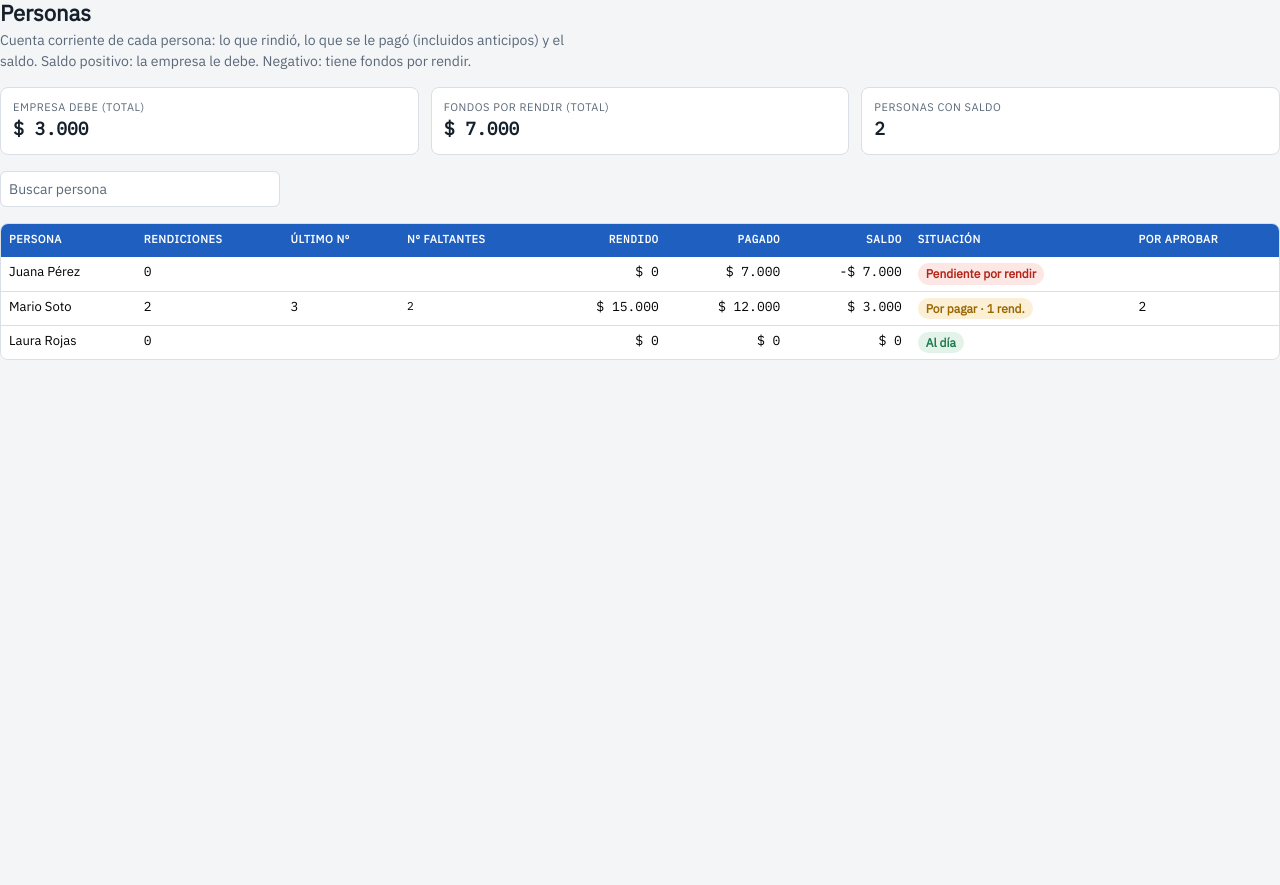
PersonasView › eliminar un pago manual pide confirmación
Click the row that starts with "Mario Soto" at (640,308), box [1,291,1279,326]
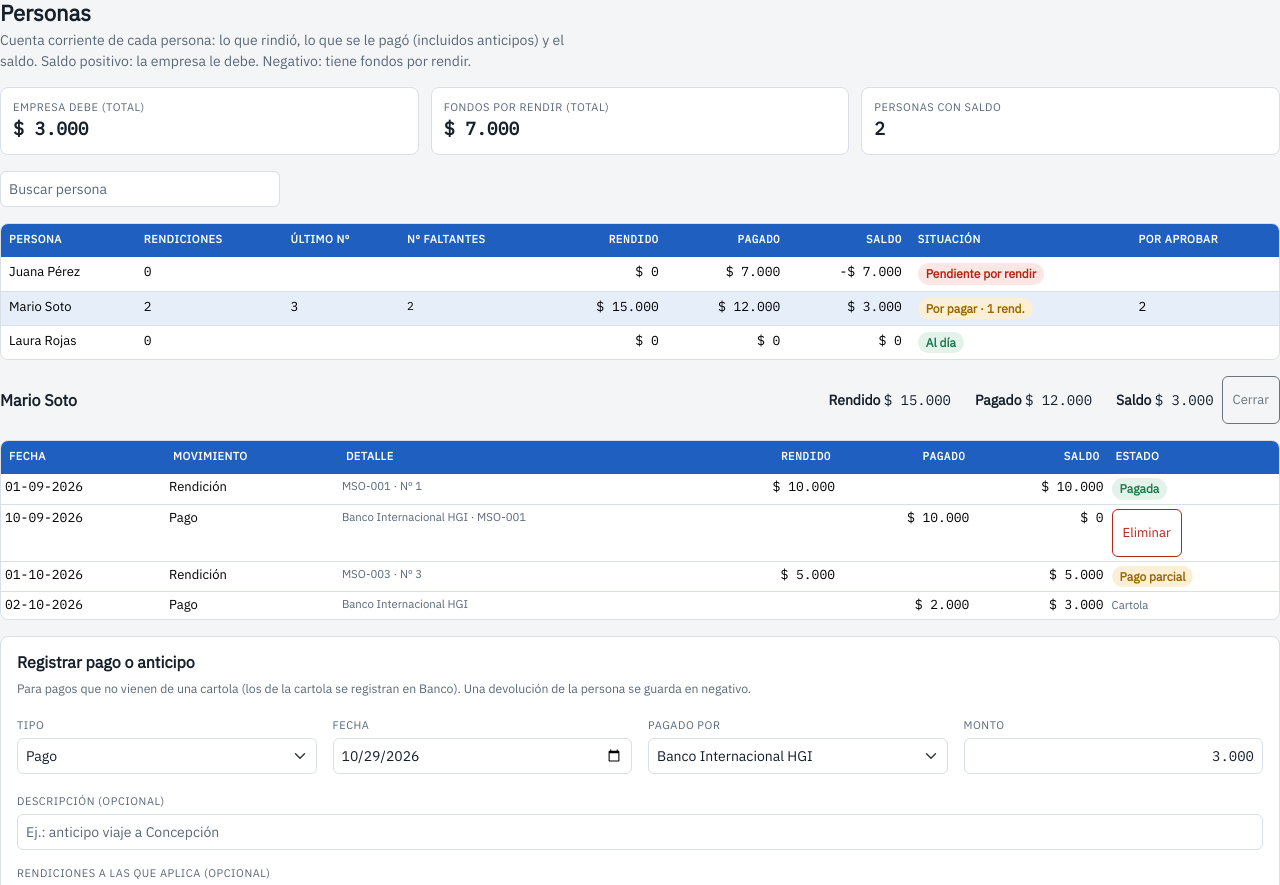
Click the button "Eliminar" at (1147,533), box [1112,509,1182,557]
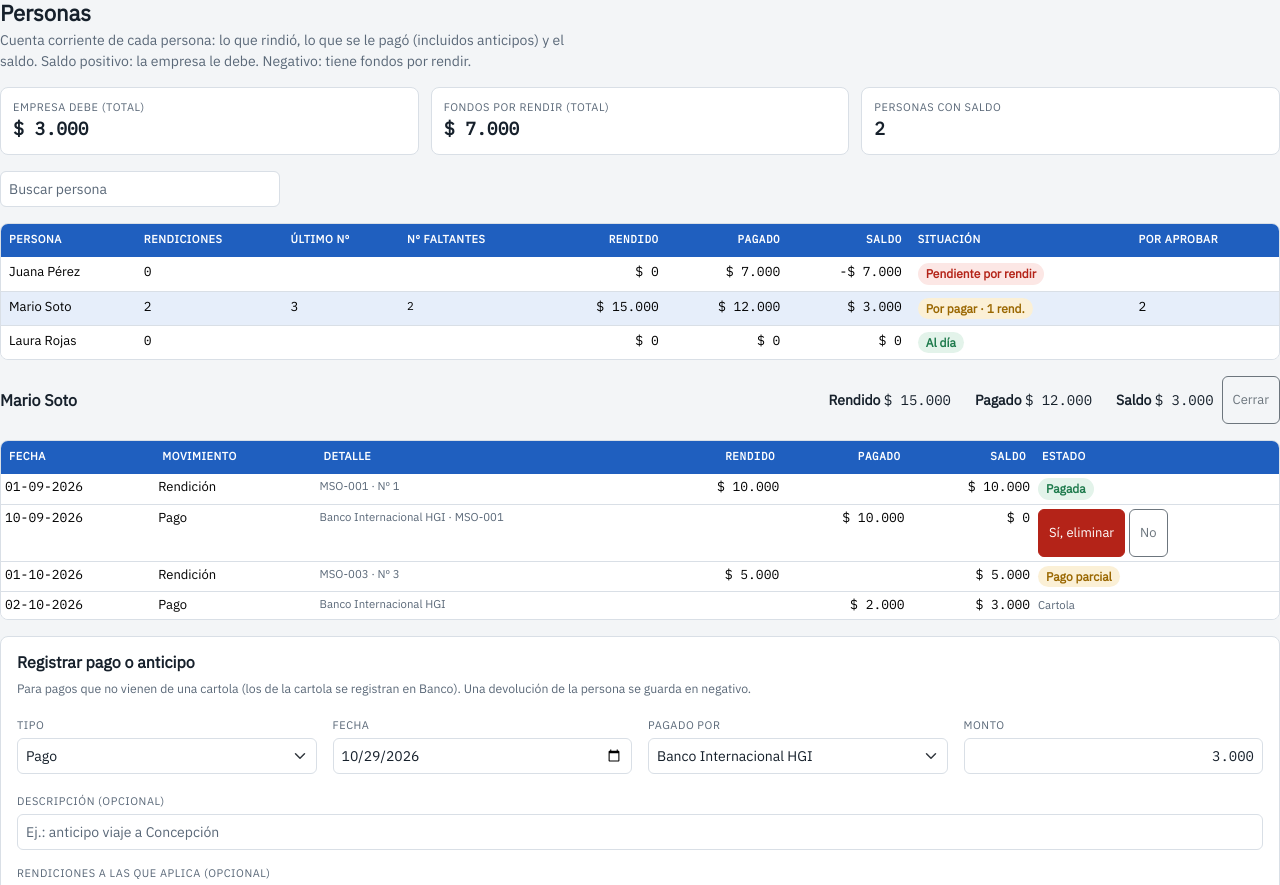
Click the button "Sí, eliminar" at (1082,533), box [1038,509,1125,557]
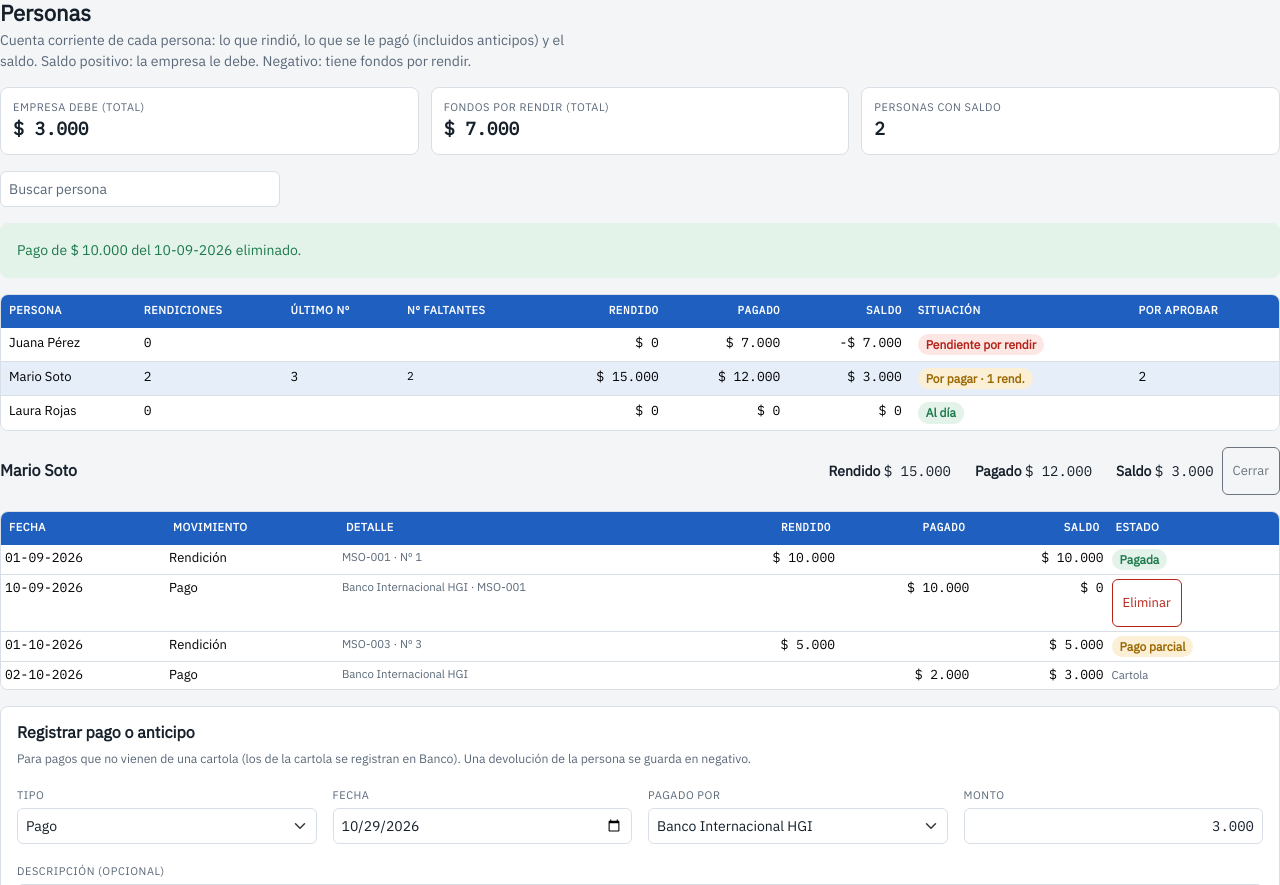
Expected: the message "Pago de $ 10.000 del 10-09-2026 eliminado." is shown, [0,223,1279,278]
